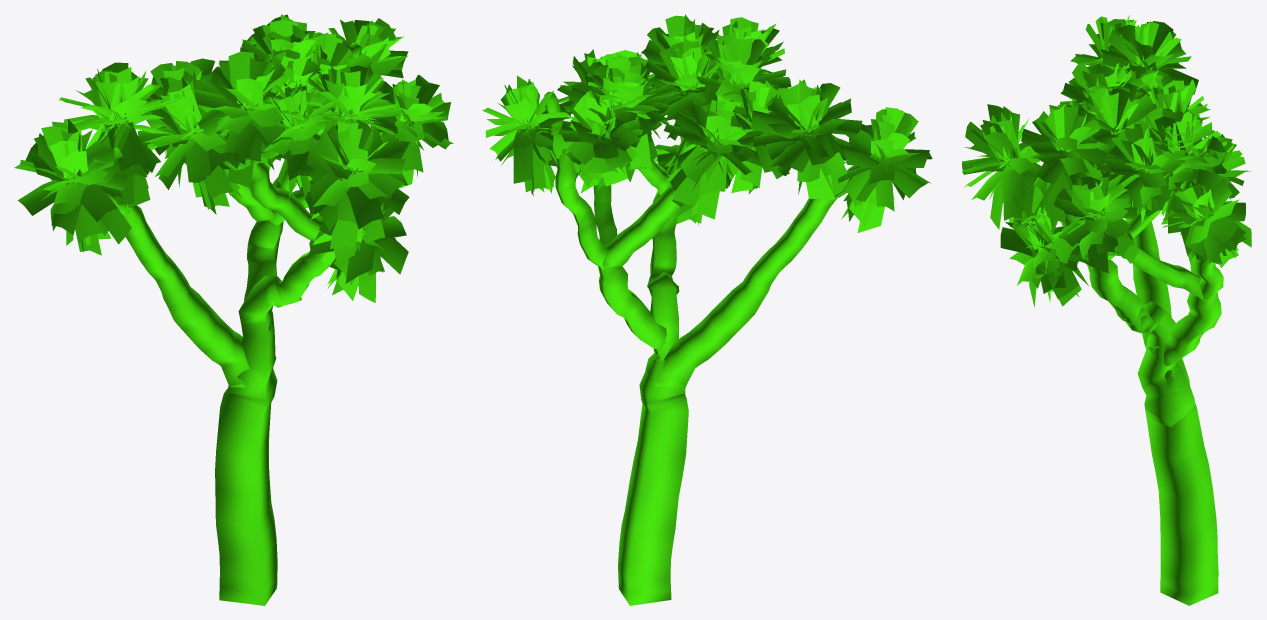
Rendered from smallTree.fbx.
3 views of the same model, side by side, from view 1: azimuth 30°, elevation 25°; view 2: azimuth 150°, elevation 25°; view 3: azimuth 270°, elevation 25° (orthographic). The views are drawn at different scales.
Parts seen in each view (by area): view 1: SmallTree; view 2: SmallTree; view 3: SmallTree.
Boxes of the visible parts, bbox=[...] form: SmallTree: bbox=[14, 14, 453, 605]; SmallTree: bbox=[482, 14, 932, 605]; SmallTree: bbox=[961, 15, 1251, 605].
Bounding box in the file's own units: 407 × 527 × 273.
